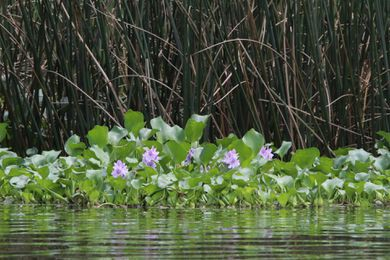water_hyacinth: (1, 112, 389, 211)
